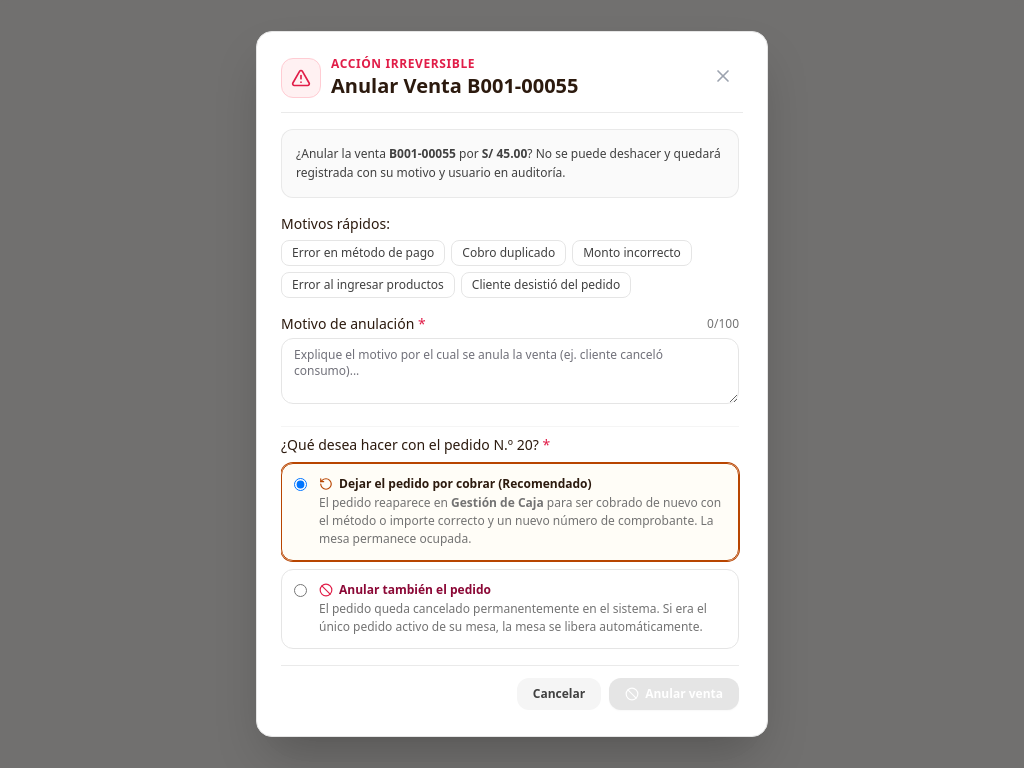
AnularVentaModal - Pruebas de Caracterización y Validación de Anulación › debe habilitar el botón de anular cuando el motivo tiene entre 5 y 100 caracteres
Expected: the button "Anular venta" is disabled, [609, 678, 739, 710]
Note: Seleccionar motivo rápido
Click the button "Error en método de pago" at (363, 253), box [281, 240, 445, 266]
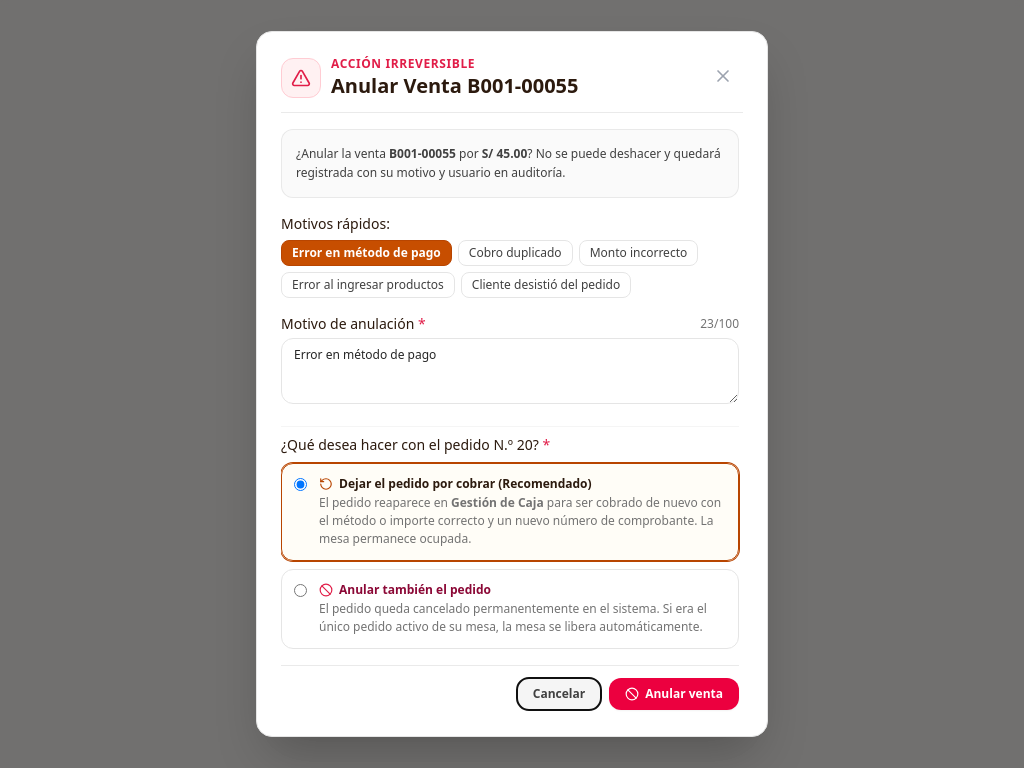
Expected: the button "Anular venta" is enabled, [609, 678, 739, 710]
